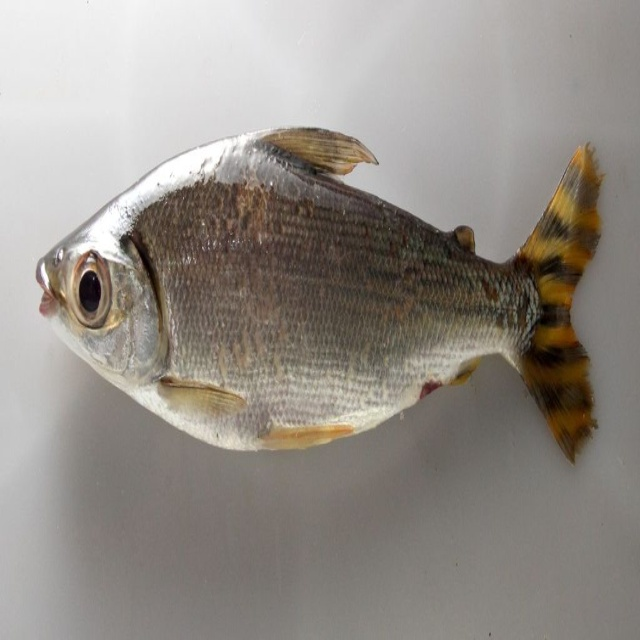Fish: (33, 124, 605, 462)
